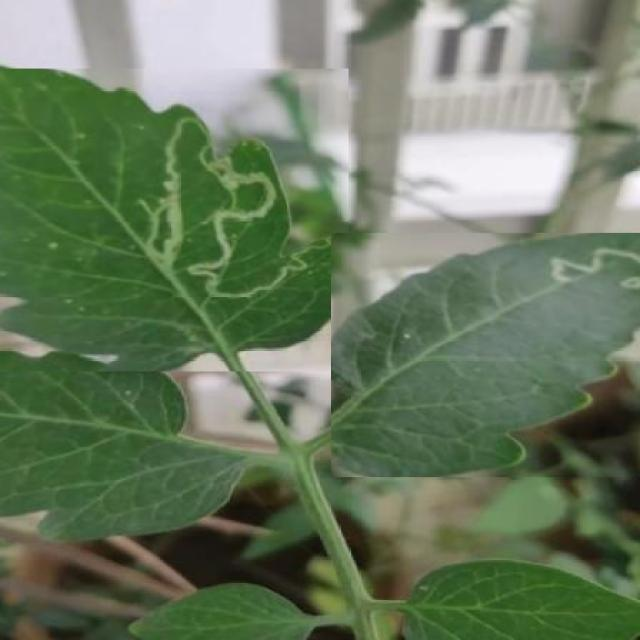Leaf Miner: (0, 68, 349, 372), (330, 233, 640, 477)
